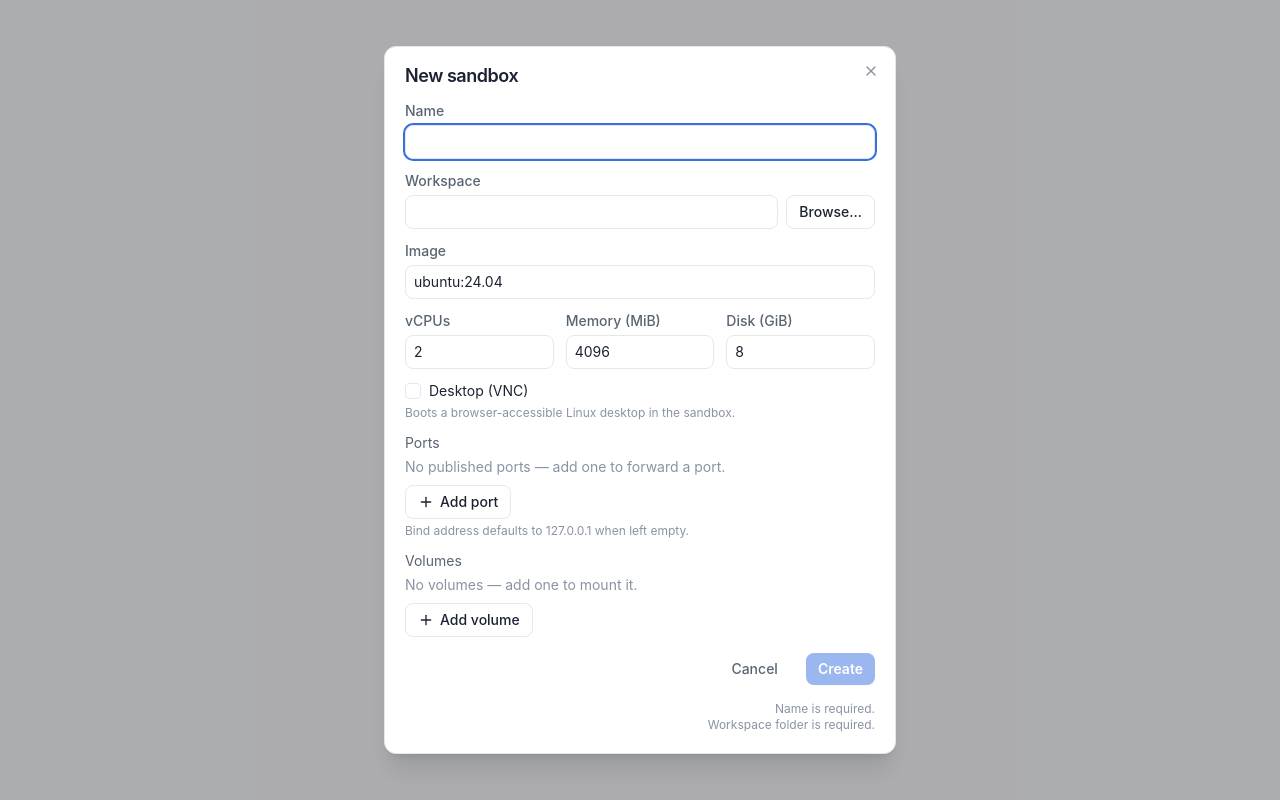
Test case: NewSandbox › drops the missing-name hint once a name is entered, keeps the workspace one
Type "web" into the field labelled "Name" at (640, 142), box [405, 125, 875, 159]
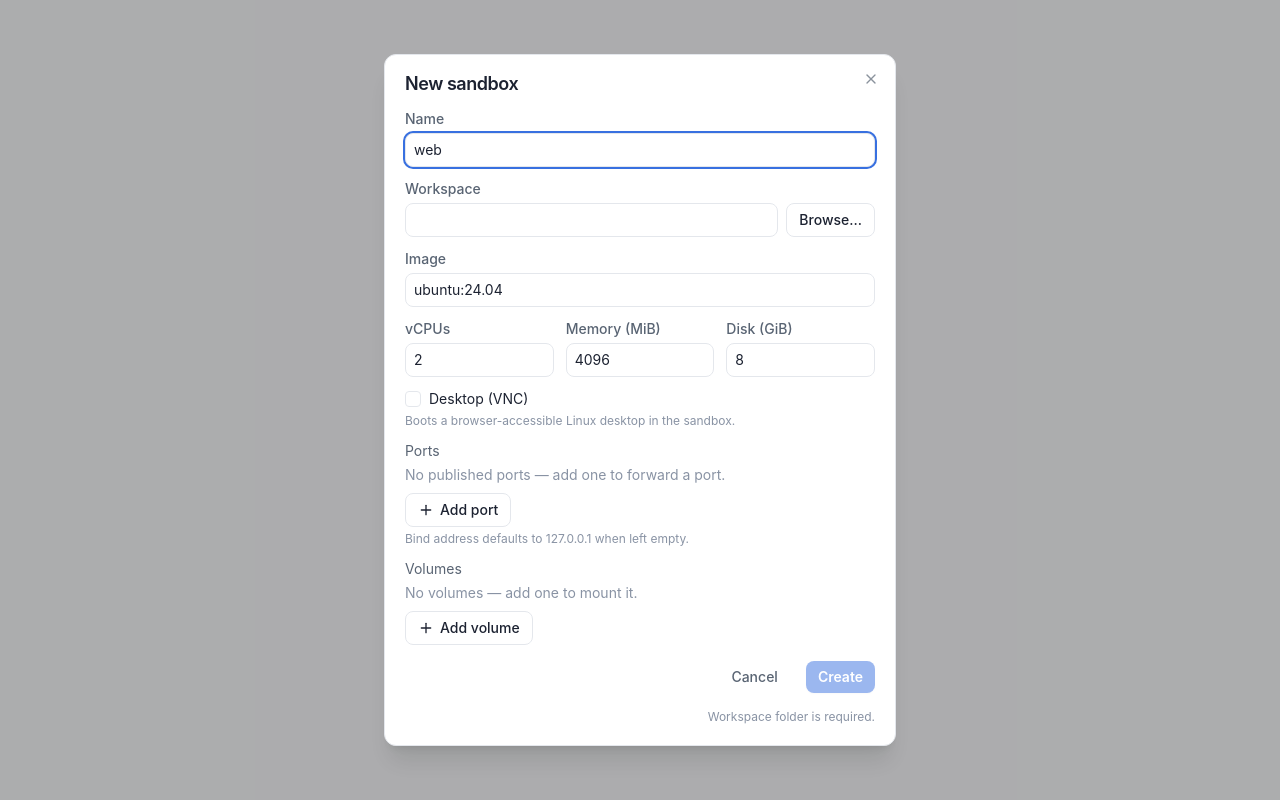
expect the text "Workspace folder is required." is shown: met, box [708, 709, 875, 724]
expect the text "Name is required." is gone: met
